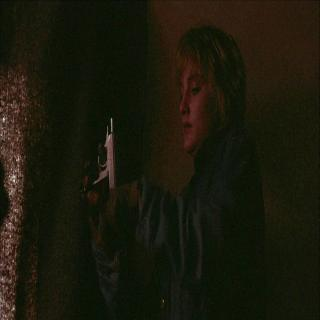gun: (76, 114, 121, 200)
